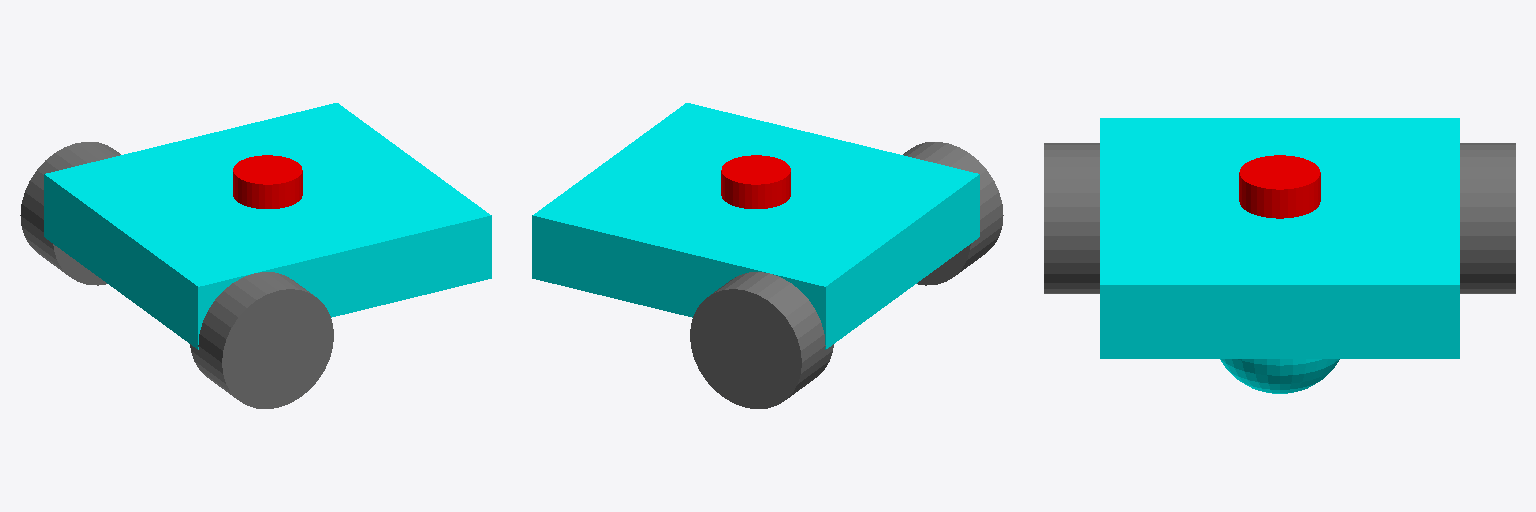
The robot description file, URDF, robot "Riggu":
<?xml version="1.0" ?>
<!-- =================================================================================== -->
<!-- |    This document was autogenerated by xacro from [local-path]/Desktop/riggu_ws/install/riggu_nav2/share/riggu_nav2/urdf/riggu_simulation.xacro | -->
<!-- |    EDITING THIS FILE BY HAND IS NOT RECOMMENDED                                 | -->
<!-- =================================================================================== -->
<robot name="Riggu">
  <!-- Robot base -->
  <link name="base_link">
    <visual>
      <geometry>
        <box size="0.34 0.31 0.07"/>
      </geometry>
      <material name="Cyan">
        <color rgba="0 1 1 1"/>
      </material>
    </visual>
  </link>
  <!-- Robot Footprint -->
  <link name="base_footprint"/>
  <joint name="base_joint" type="fixed">
    <parent link="base_link"/>
    <child link="base_footprint"/>
    <origin rpy="0 0 0" xyz="0 0 0.095"/>
  </joint>
  <link name="left_wheel_link">
    <visual>
      <origin rpy="1.5707963267948966 0 0" xyz="0 0 0"/>
      <geometry>
        <cylinder length="0.065" radius="0.065"/>
      </geometry>
      <material name="Gray">
        <color rgba="0.5 0.5 0.5 1"/>
      </material>
    </visual>
  </link>
  <joint name="left_wheel_joint" type="continuous">
    <parent link="base_link"/>
    <child link="left_wheel_link"/>
    <origin rpy="0 0 0" xyz="-0.105 0.17 -0.03"/>
    <axis xyz="0 1 0"/>
  </joint>
  <link name="right_wheel_link">
    <visual>
      <origin rpy="1.5707963267948966 0 0" xyz="0 0 0"/>
      <geometry>
        <cylinder length="0.065" radius="0.065"/>
      </geometry>
      <material name="Gray">
        <color rgba="0.5 0.5 0.5 1"/>
      </material>
    </visual>
  </link>
  <joint name="right_wheel_joint" type="continuous">
    <parent link="base_link"/>
    <child link="right_wheel_link"/>
    <origin rpy="0 0 0" xyz="-0.105 -0.17 -0.03"/>
    <axis xyz="0 1 0"/>
  </joint>
  <!-- Caster Wheel -->
  <link name="front_caster">
    <visual>
      <geometry>
        <sphere radius="0.06"/>
      </geometry>
      <material name="Cyan">
        <color rgba="0 1 1 1"/>
      </material>
    </visual>
  </link>
  <joint name="caster_joint" type="fixed">
    <parent link="base_link"/>
    <child link="front_caster"/>
    <origin rpy="0 0 0" xyz="0.1 0 -0.035"/>
  </joint>
  <!-- Lidar -->
  <link name="laser">
    <visual>
      <geometry>
        <cylinder length="0.055" radius="0.035"/>
      </geometry>
      <material name="Red">
        <color rgba="1 0 0 1"/>
      </material>
    </visual>
  </link>
  <joint name="laser_joint" type="fixed">
    <parent link="base_link"/>
    <child link="laser"/>
    <origin rpy="0 0 3.14" xyz="0 0 0.035"/>
  </joint>
  <!-- Gazebo Plugins -->
  <!-- Differential Drive Plugin -->
  <gazebo>
    <plugin filename="libgazebo_ros_diff_drive.so" name="gazebo_ros_diff_drive">
      <ros>
        <namespace>/</namespace>
        <remapping>odom:=/odom</remapping>
      </ros>
      <updateRate>50</updateRate>
      <left_joint>left_wheel_joint</left_joint>
      <right_joint>right_wheel_joint</right_joint>
      <wheel_separation>0.34</wheel_separation>
      <wheel_diameter>0.13</wheel_diameter>
      <robot_base_frame>base_link</robot_base_frame>
      <odom_frame>odom</odom_frame>
      <cmd_vel_topic>/cmd_vel</cmd_vel_topic>
      <odometry_topic>/odom</odometry_topic>
    </plugin>
  </gazebo>
  <!-- LIDAR Plugin -->
  <gazebo>
    <plugin filename="libgazebo_ros_laser.so" name="gazebo_ros_laser">
      <topicName>/scan</topicName>
      <frameName>laser</frameName>
    </plugin>
  </gazebo>
  <!-- IMU Sensor Plugin (optional) -->
  <gazebo>
    <plugin filename="libgazebo_ros_imu.so" name="gazebo_ros_imu">
      <alwaysOn>true</alwaysOn>
      <updateRate>50</updateRate>
      <bodyName>base_link</bodyName>
      <topicName>imu</topicName>
    </plugin>
  </gazebo>
</robot>

--- Facts derived from the render (not from the file) ---
The picture shows the robot from 3 angles, left to right: view 1: azimuth 30°, elevation 25°; view 2: azimuth 150°, elevation 25°; view 3: azimuth 270°, elevation 25°; orthographic projection.
Robot: Riggu — 6 links, 5 joints (2 continuous, 3 fixed); root link base_link; default pose: all joints at 0.
Visible links, largest first — view 1: base_link, right_wheel_link, left_wheel_link, laser; view 2: base_link, left_wheel_link, right_wheel_link, laser; view 3: base_link, left_wheel_link, right_wheel_link, laser, front_caster.
Boxes of the visible links, <box> form: base_link: <box>44,103,491,349</box>; right_wheel_link: <box>190,272,333,408</box>; left_wheel_link: <box>20,142,120,285</box>; laser: <box>233,155,302,208</box>; base_link: <box>532,103,979,349</box>; left_wheel_link: <box>690,272,833,408</box>; right_wheel_link: <box>903,142,1003,285</box>; laser: <box>721,155,790,208</box>; base_link: <box>1100,118,1459,358</box>; left_wheel_link: <box>1460,143,1515,293</box>; right_wheel_link: <box>1044,143,1099,293</box>; laser: <box>1239,155,1320,218</box>; front_caster: <box>1220,359,1339,393</box>.
Size in the robot's own frame: 0.34 by 0.405 by 0.1575 metres.
Geometry: primitives only (box / cylinder / sphere), no mesh files.
